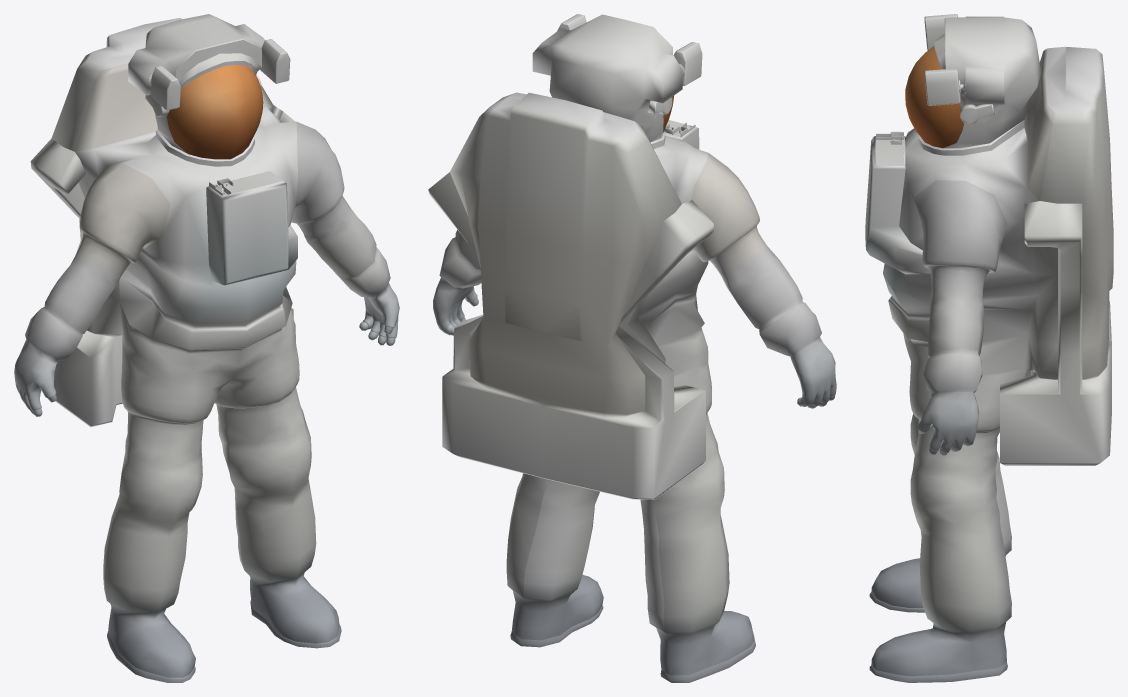
Rendered from nasa_astronaut.obj.
3 views of the same model, side by side, from view 1: azimuth 30°, elevation 25°; view 2: azimuth 150°, elevation 25°; view 3: azimuth 270°, elevation 25° (orthographic). The views are drawn at different scales.
Bounding box in the file's own units: 48.55 × 74.26 × 27.6.
